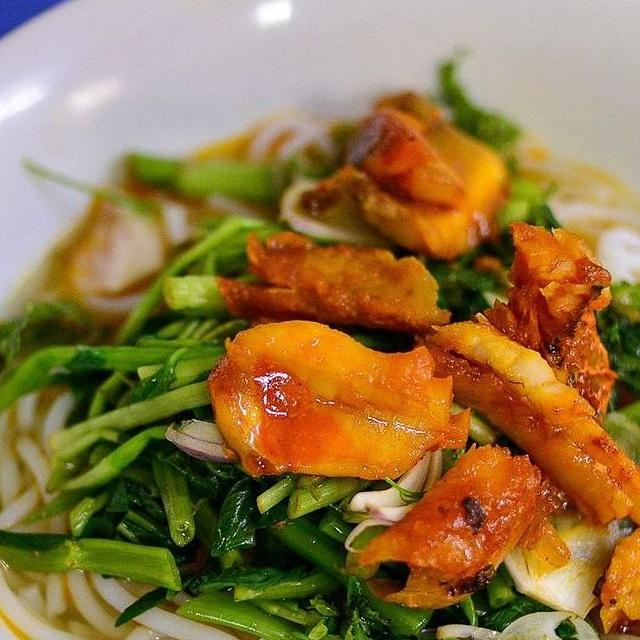bun: (0, 529, 421, 640), (0, 339, 83, 544)
bun ca: (0, 5, 640, 640)
ca: (414, 308, 640, 542), (208, 320, 467, 480), (460, 206, 626, 420), (194, 224, 461, 332), (581, 440, 640, 640)
